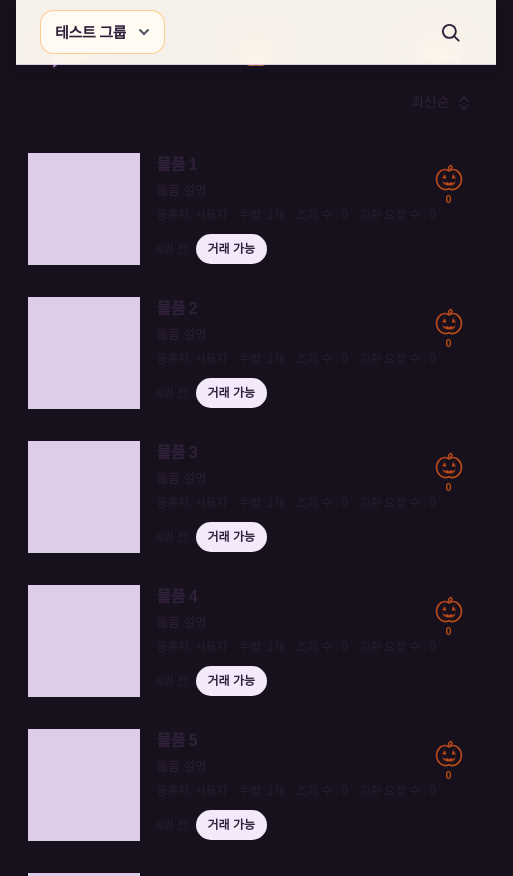
Scenario: 인기순을 선택하면 직접 추천 API의 첫 페이지를 요청하고 추천 커서로 추가 조회한다
(page scrolled)
What coordinates should you click on to do the following:
click the button with aria-label "정렬 방법: 최신순"
I would click on:
 (435, 103)
Its box is [399,81,472,125].
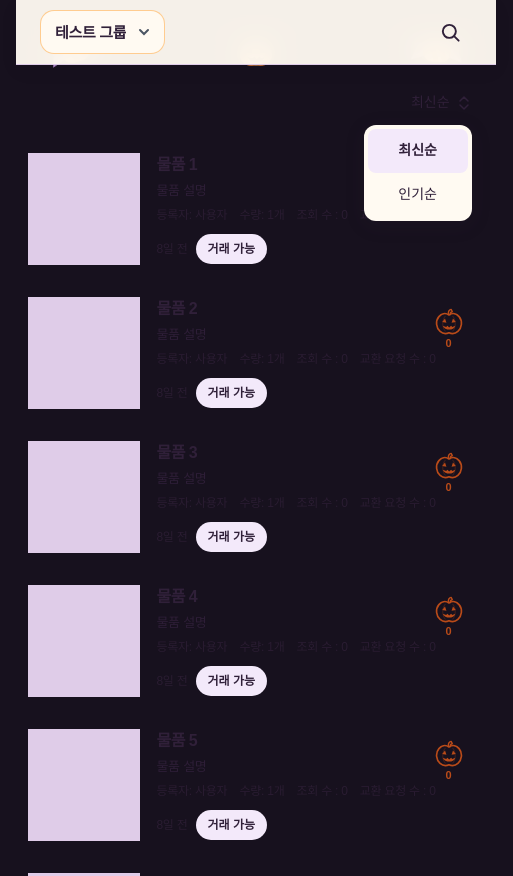
What coordinates should you click on to do the following:
click the button "인기순"
I would click on:
 (418, 195)
Its box is [368,173,468,217].
(page scrolled)
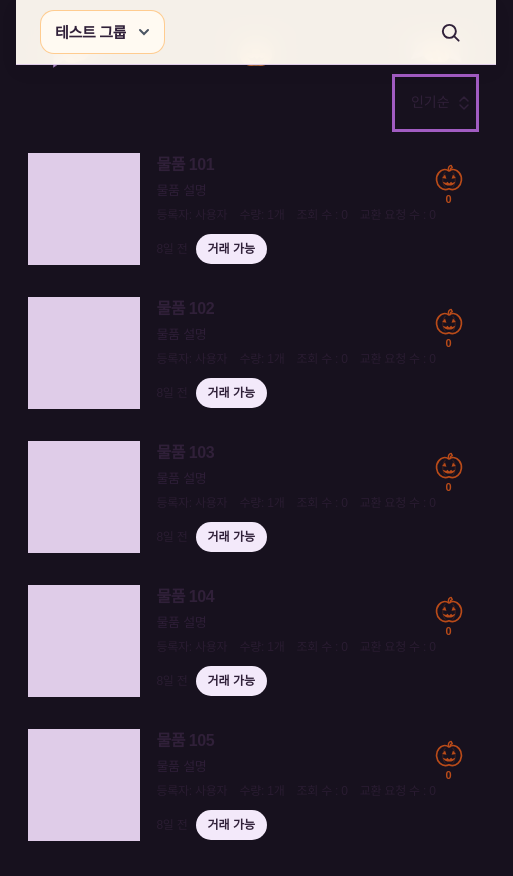
Result: the heading "물품 101" is shown at [156,156,214,173]
Result: the heading "물품 105" is shown at [156,732,214,749]
